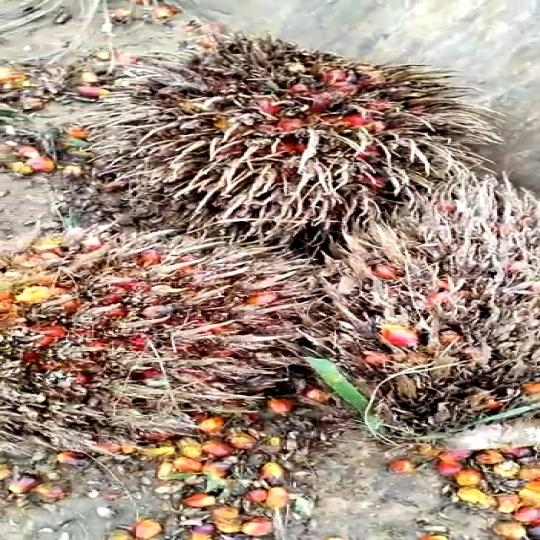terlalu masak: (0, 224, 349, 470), (92, 39, 487, 247), (331, 186, 540, 428)
